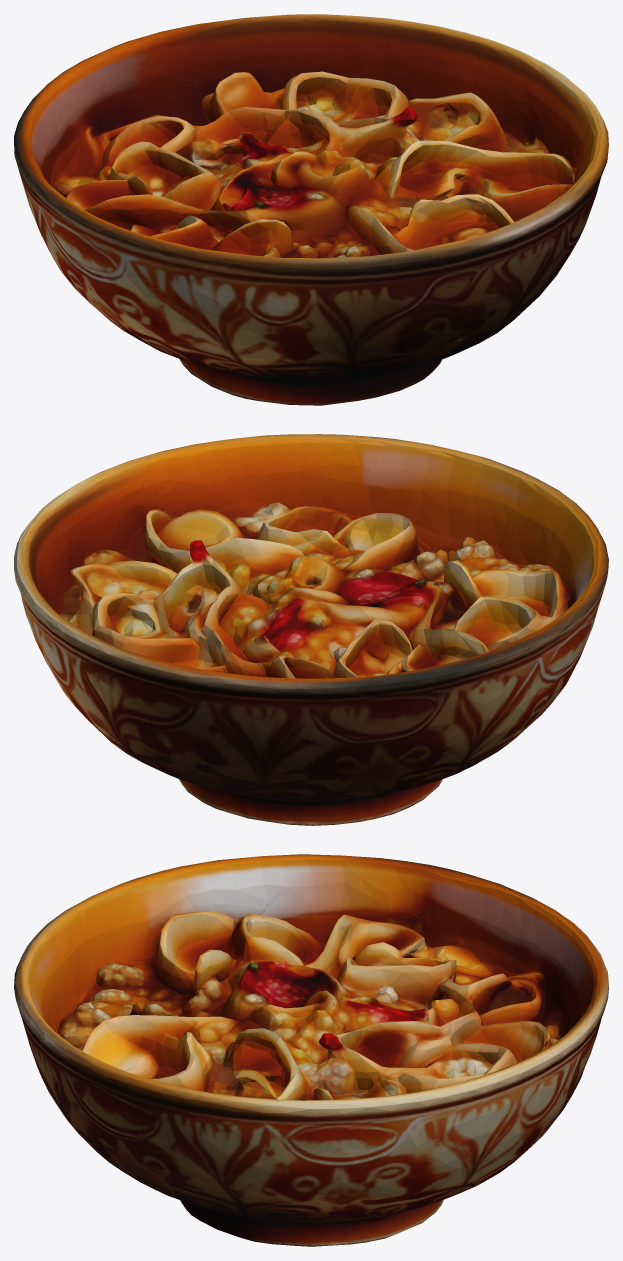
Rendered from ceramic-pasta-bowl-vintage.jpeg.glb.
3 renders of one model, top to bottom at view 1: azimuth 30°, elevation 25°; view 2: azimuth 150°, elevation 25°; view 3: azimuth 270°, elevation 25°, orthographic.
Visible parts, largest first — view 1: world; view 2: world; view 3: world.
Part boxes in pixels (<box>): world: <box>14,14,608,405</box>; world: <box>14,434,608,825</box>; world: <box>14,854,608,1246</box>.
Bounding box in the file's own units: 0.9992 × 0.395 × 0.999.
1 material, 1 textured.
